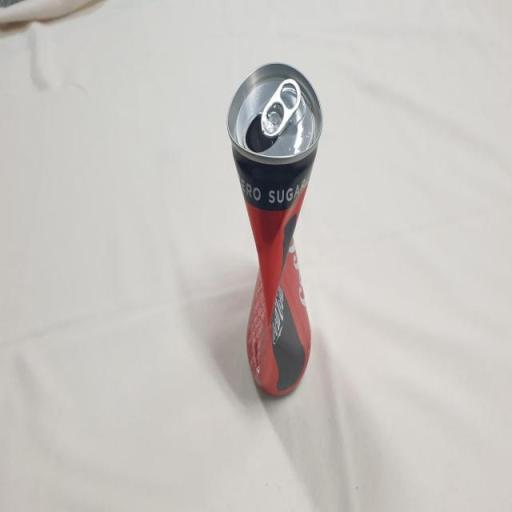metal: (222, 48, 329, 414)
